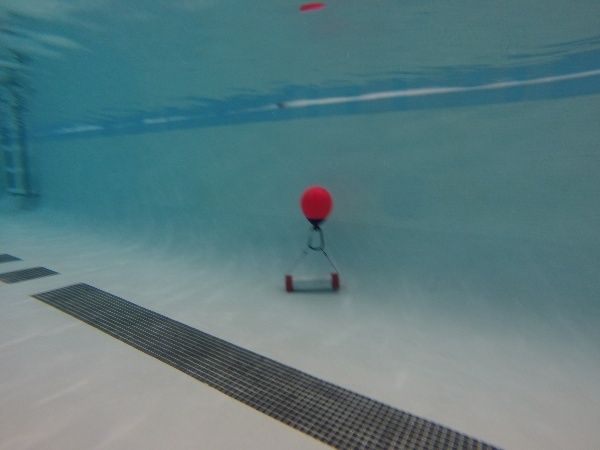buoy_red: (298, 183, 335, 232)
